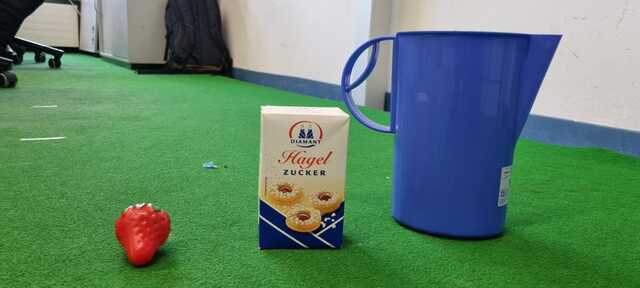004_sugar_box: (255, 103, 350, 255)
012_strawberry: (115, 203, 174, 267)
019_pitcher_base: (344, 31, 564, 246)
